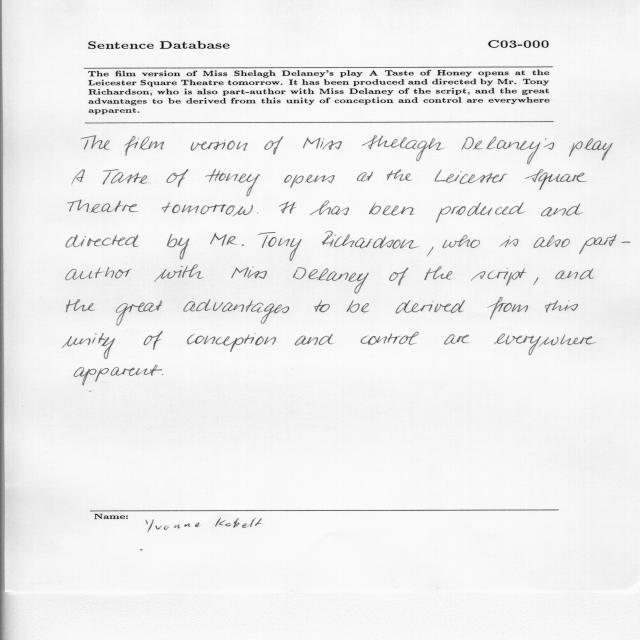word: (183, 299, 289, 324), (462, 137, 555, 165), (494, 334, 596, 355), (361, 136, 444, 161), (293, 267, 369, 294), (436, 202, 525, 223), (74, 365, 162, 385), (322, 231, 419, 249), (187, 333, 276, 352), (205, 169, 260, 196), (162, 202, 253, 217), (63, 333, 115, 359), (525, 169, 587, 190), (258, 232, 302, 261), (116, 301, 162, 326), (434, 169, 508, 184), (580, 235, 631, 255), (471, 268, 527, 286), (569, 139, 613, 161), (66, 235, 139, 248), (69, 200, 139, 213), (395, 300, 465, 313), (487, 298, 528, 320), (66, 267, 132, 280), (154, 265, 204, 282), (124, 136, 164, 156), (360, 332, 419, 345), (102, 169, 148, 185), (284, 175, 335, 188), (191, 140, 248, 151), (369, 203, 415, 216), (310, 201, 349, 216), (167, 234, 189, 260), (541, 204, 583, 217), (303, 137, 342, 150), (442, 235, 480, 248), (533, 235, 570, 248), (231, 266, 267, 279), (210, 233, 244, 246), (555, 269, 594, 280), (295, 334, 334, 345), (81, 136, 110, 150), (167, 169, 189, 187), (545, 301, 578, 313), (425, 267, 453, 281), (67, 299, 96, 312), (144, 331, 163, 350), (265, 137, 284, 155), (389, 268, 408, 286), (387, 169, 412, 181), (346, 300, 369, 313), (444, 334, 469, 345), (500, 236, 519, 247), (279, 202, 296, 214), (72, 169, 85, 184), (314, 300, 330, 312), (357, 172, 373, 181), (427, 247, 433, 257), (534, 277, 539, 286), (257, 213, 259, 214), (162, 374, 164, 375)
